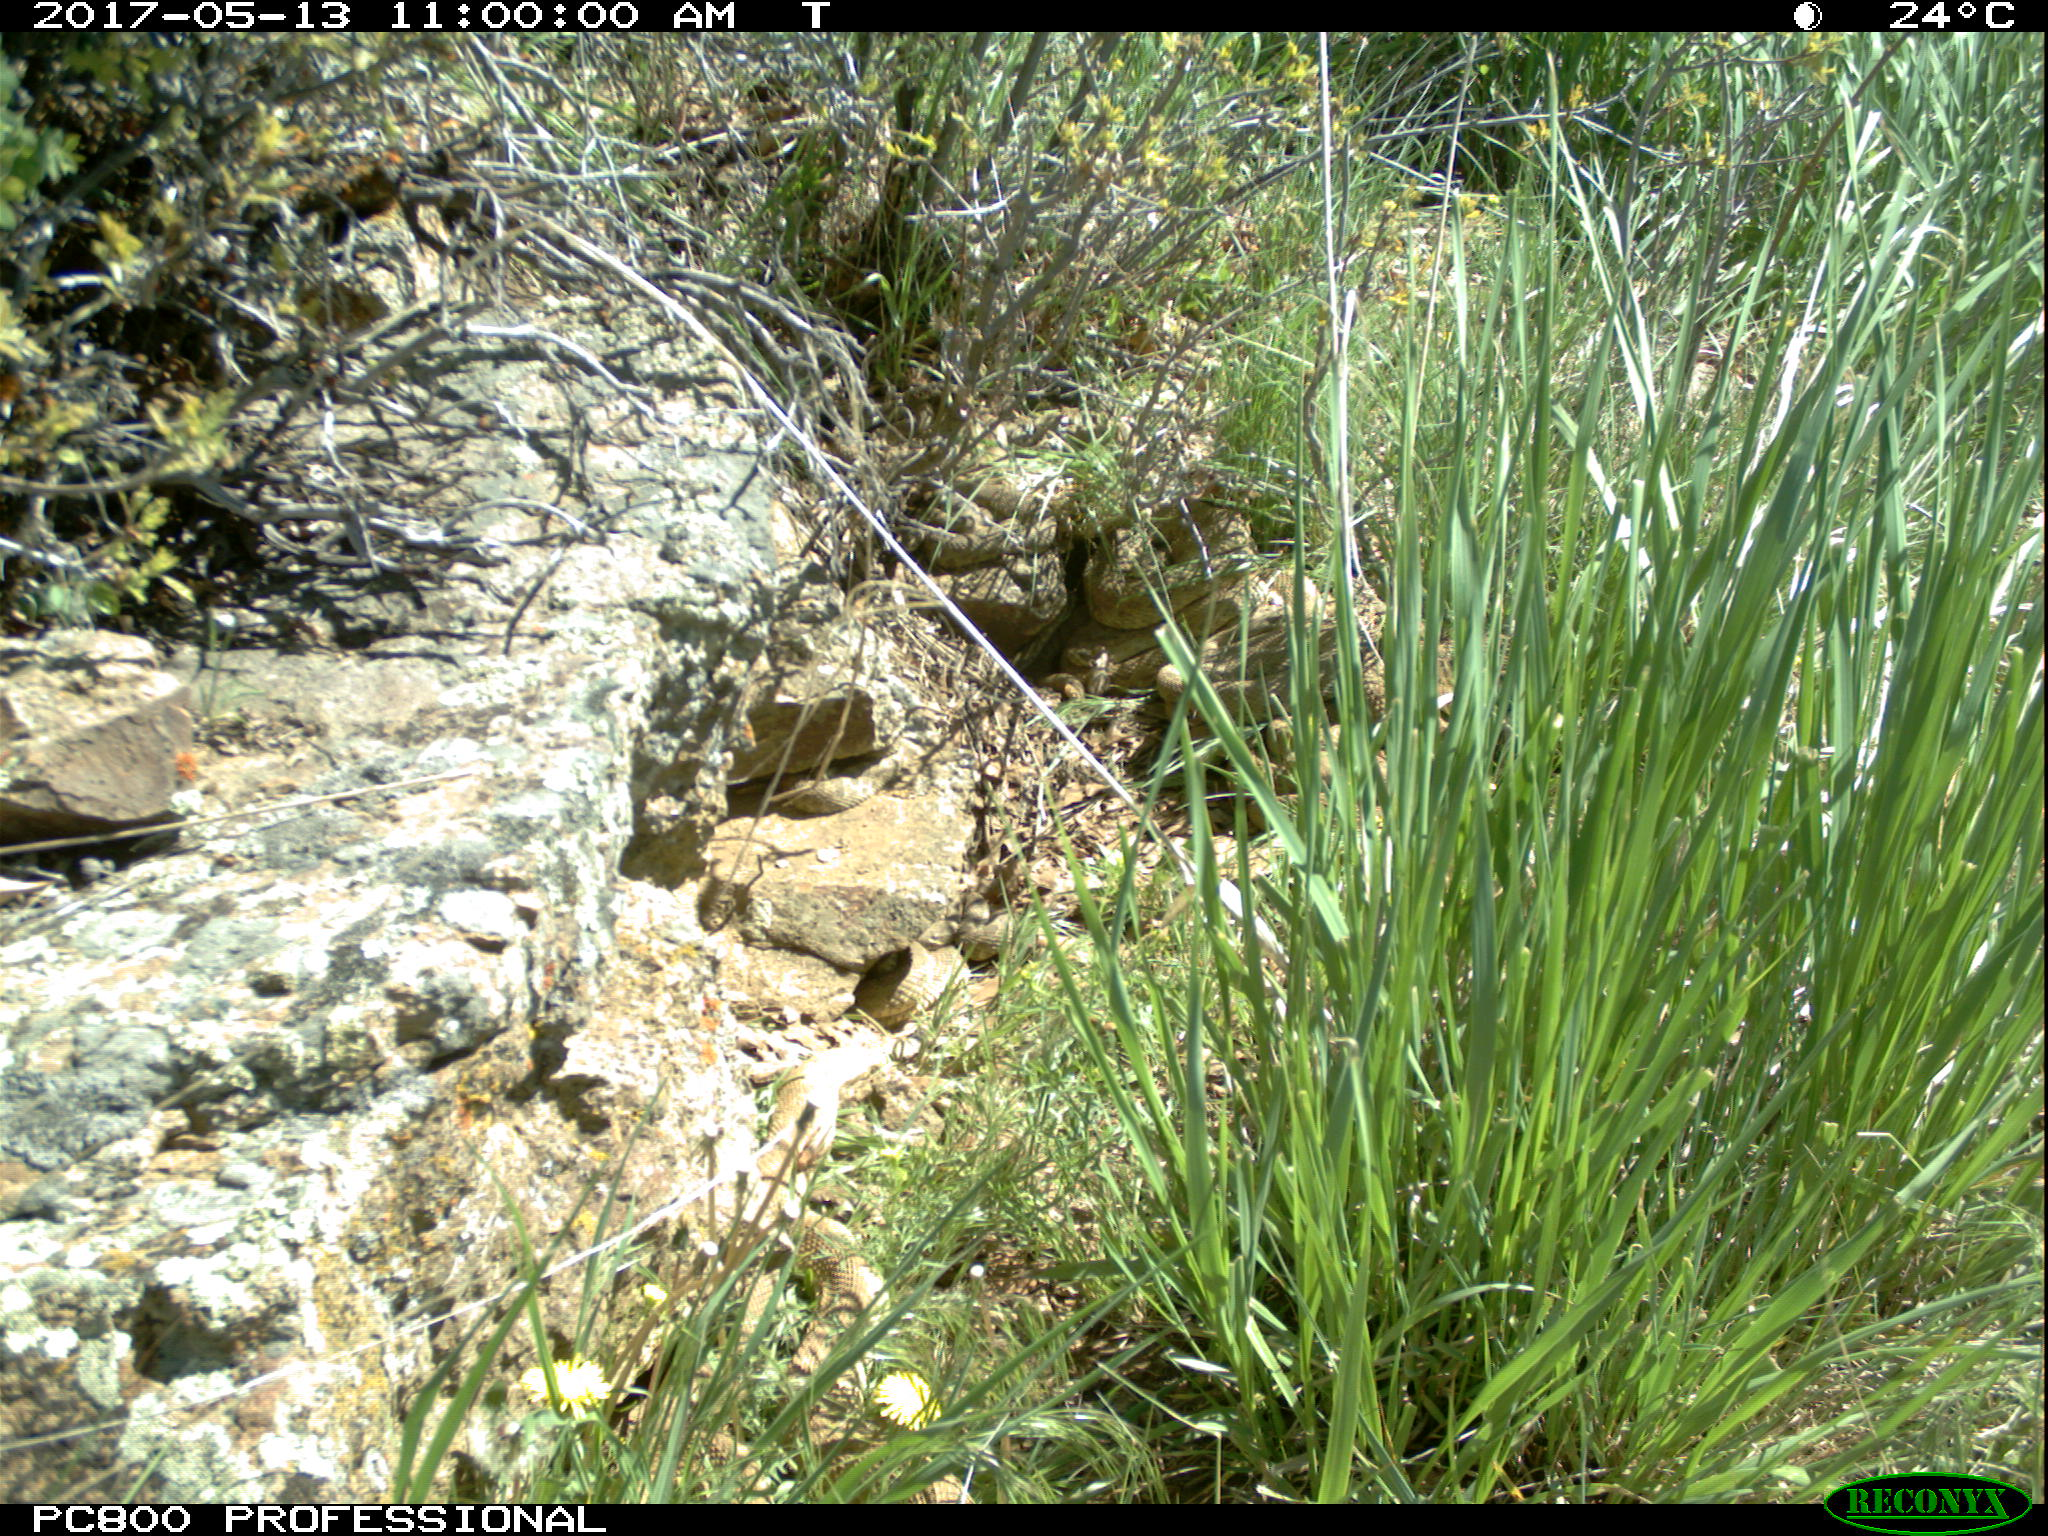snake: (769, 1044, 911, 1379), (1087, 503, 1305, 631), (847, 937, 984, 1016), (777, 752, 921, 805)
